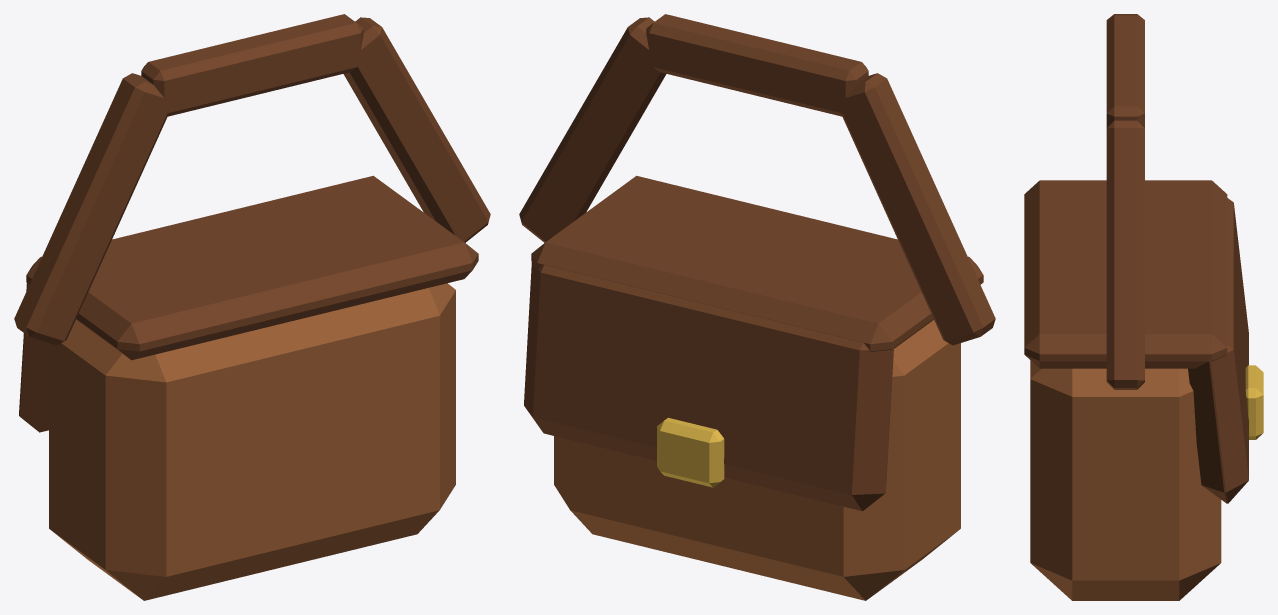
File: bag_satchel.glb
The picture shows the model from 3 angles, left to right: view 1: azimuth 30°, elevation 25°; view 2: azimuth 150°, elevation 25°; view 3: azimuth 270°, elevation 25°; orthographic projection. The views are drawn at different scales.
Parts seen in each view (by area): view 1: Fabric__965C34, Fabric__704226; view 2: Fabric__704226, Fabric__965C34, Metal__DCB446; view 3: Fabric__704226, Fabric__965C34, Metal__DCB446.
Boxes of the visible parts, x1=… form: Fabric__965C34: x1=49, y1=283, x2=455, y2=600; Fabric__704226: x1=14, y1=14, x2=490, y2=432; Fabric__704226: x1=519, y1=14, x2=995, y2=511; Fabric__965C34: x1=554, y1=320, x2=960, y2=600; Metal__DCB446: x1=657, y1=417, x2=724, y2=487; Fabric__704226: x1=1024, y1=14, x2=1248, y2=503; Fabric__965C34: x1=1030, y1=360, x2=1221, y2=600; Metal__DCB446: x1=1245, y1=365, x2=1263, y2=439.
Size of the model in its own units: 2.65 by 2.75 by 1.25.
